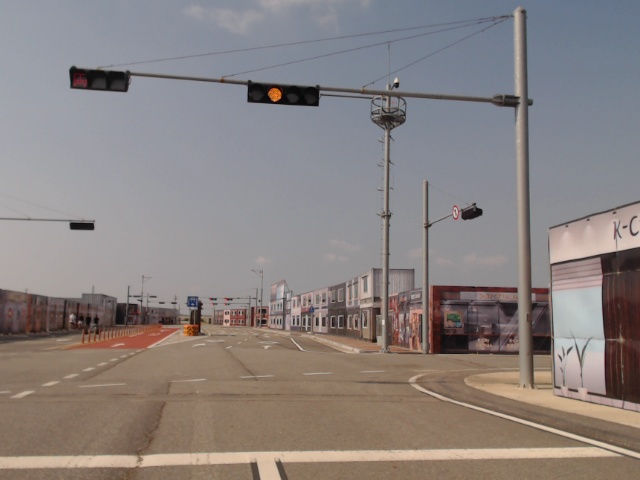orange_4: (248, 81, 319, 108)
